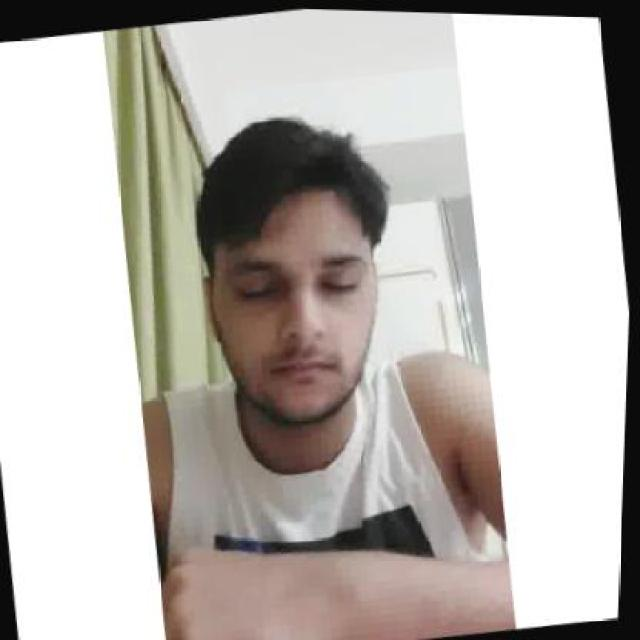inattentif: (173, 102, 402, 441)
